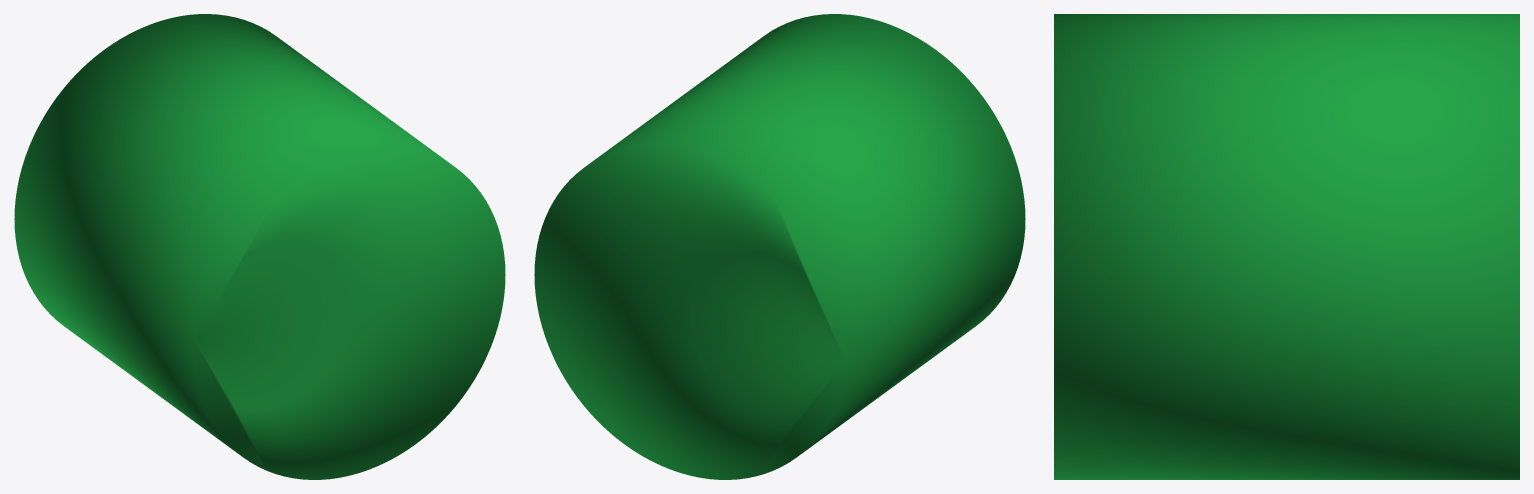
Rendered from body.obj.
3 renders of one model, left to right at view 1: azimuth 30°, elevation 25°; view 2: azimuth 150°, elevation 25°; view 3: azimuth 270°, elevation 25°, orthographic. The views are drawn at different scales.
Size of the model in its own units: 40 by 40 by 40.
